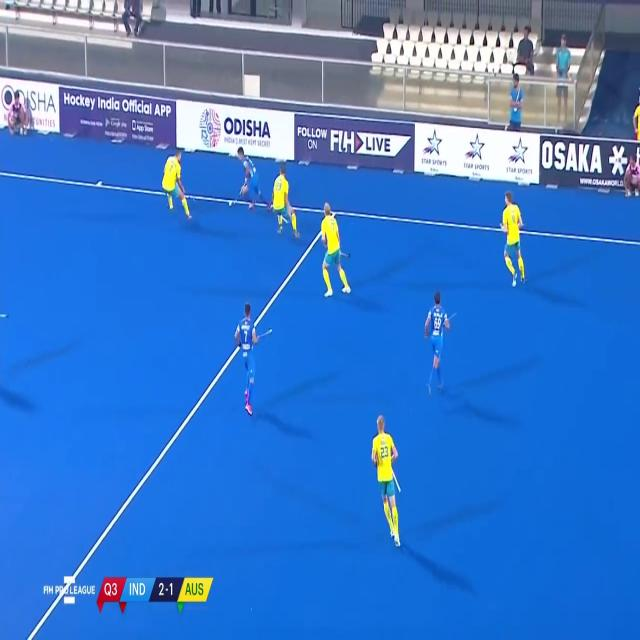ball: (228, 197, 233, 209)
